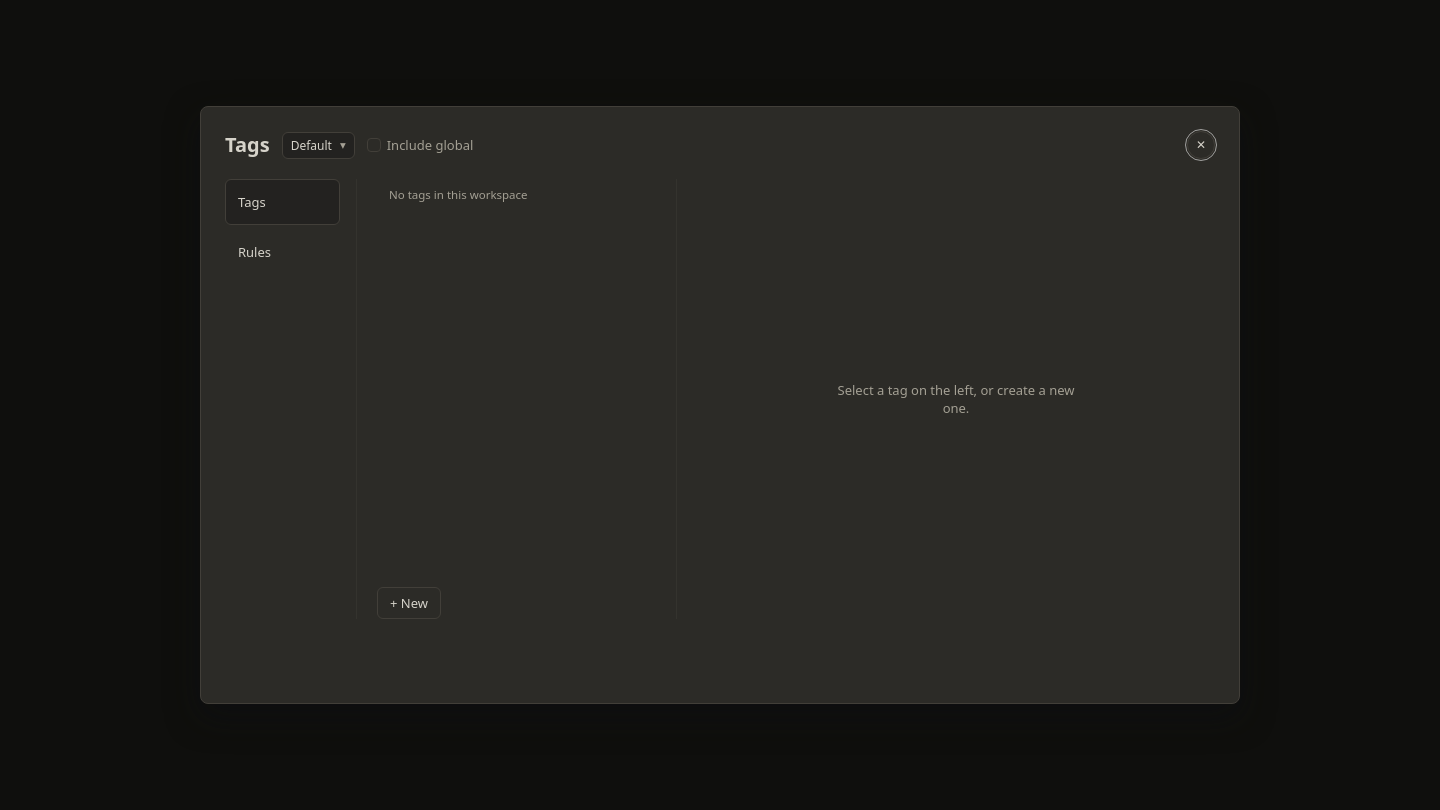
Test case: TagsDialog › a confirmed delete removes the row and returns to the placeholder
Click the button "Default ▾".
click(318, 145)  # box x1=282 y1=132 x2=355 y2=158
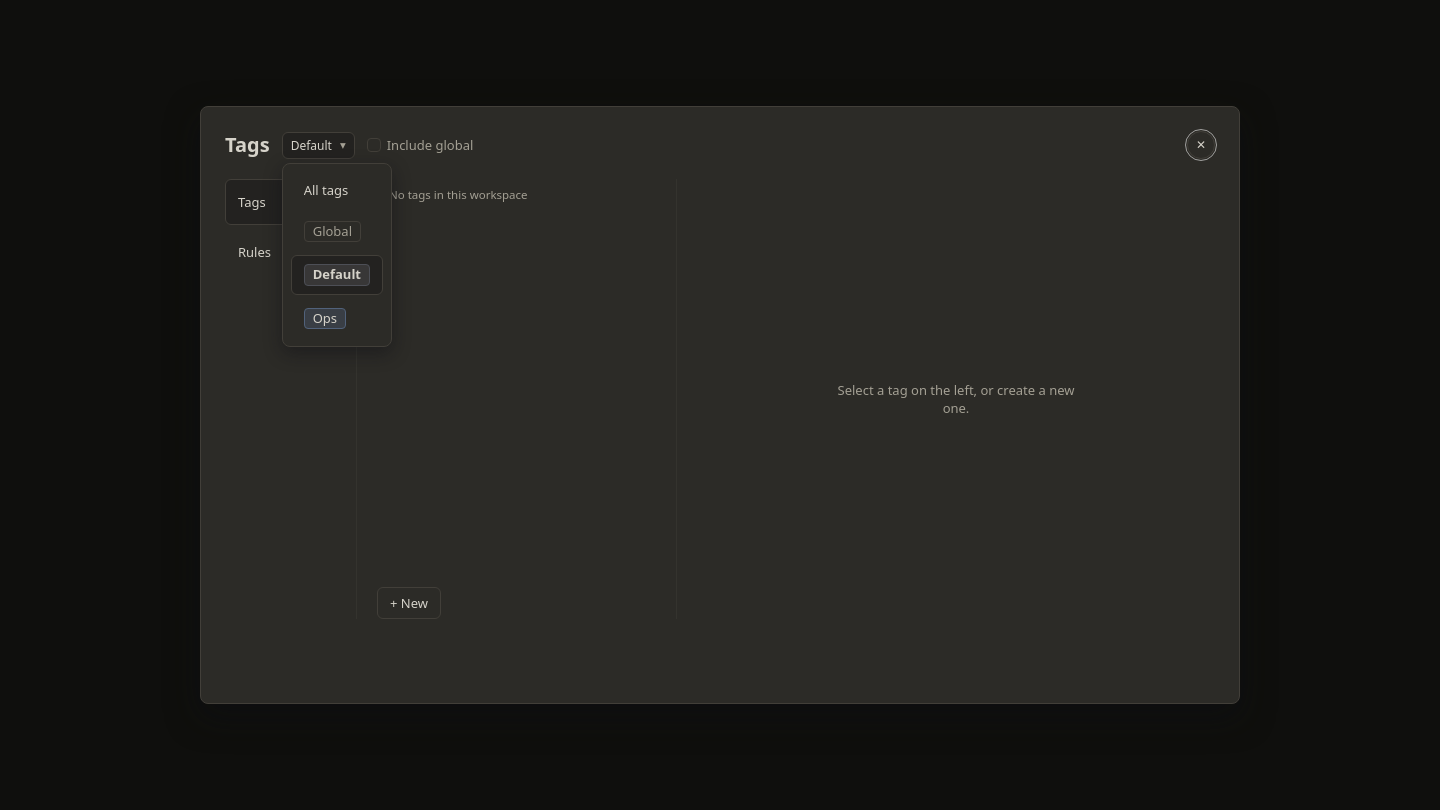
Click the option "All tags".
click(337, 190)  # box x1=291 y1=172 x2=383 y2=208
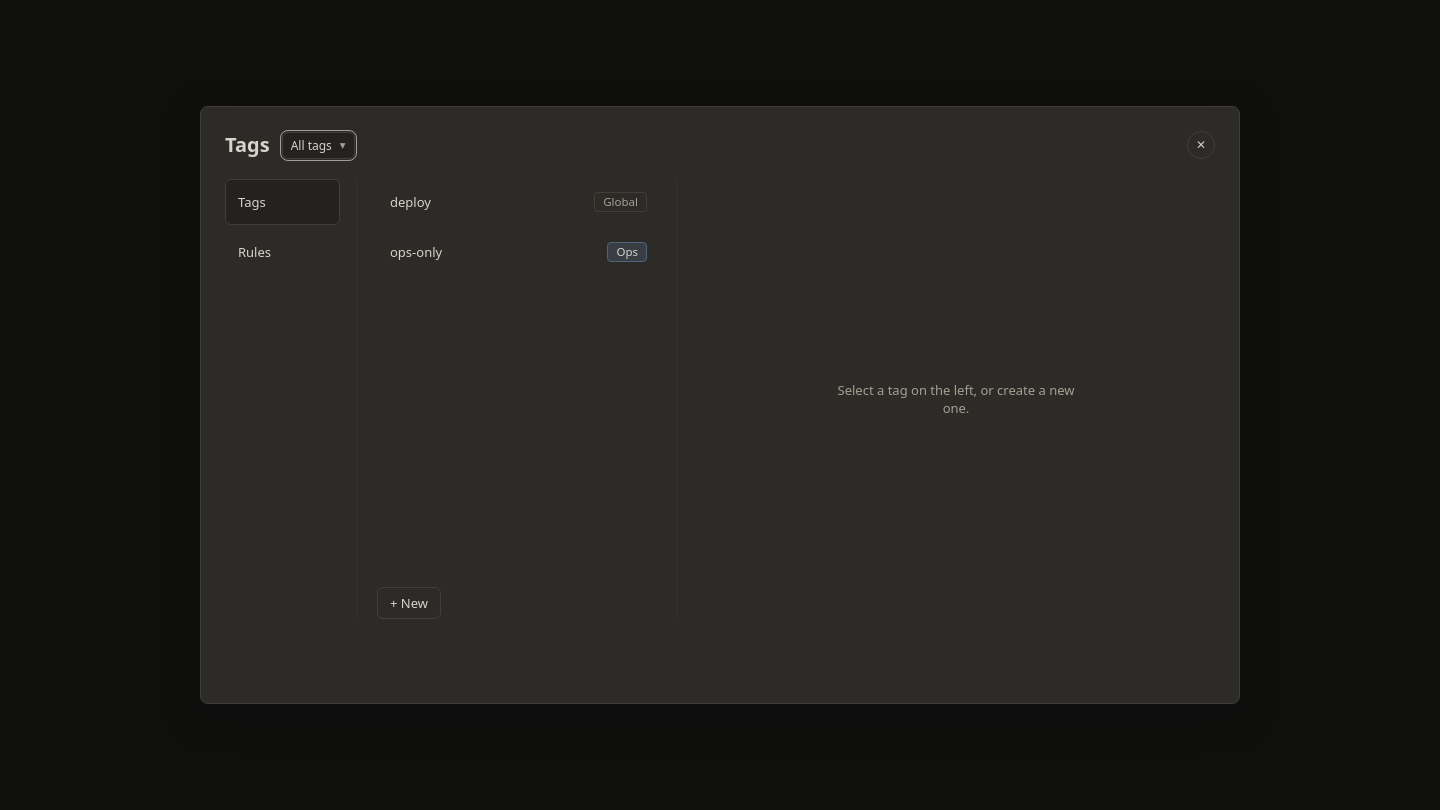
Click the button with test id "tag-select-t-deploy".
click(410, 202)  # box x1=378 y1=180 x2=659 y2=224
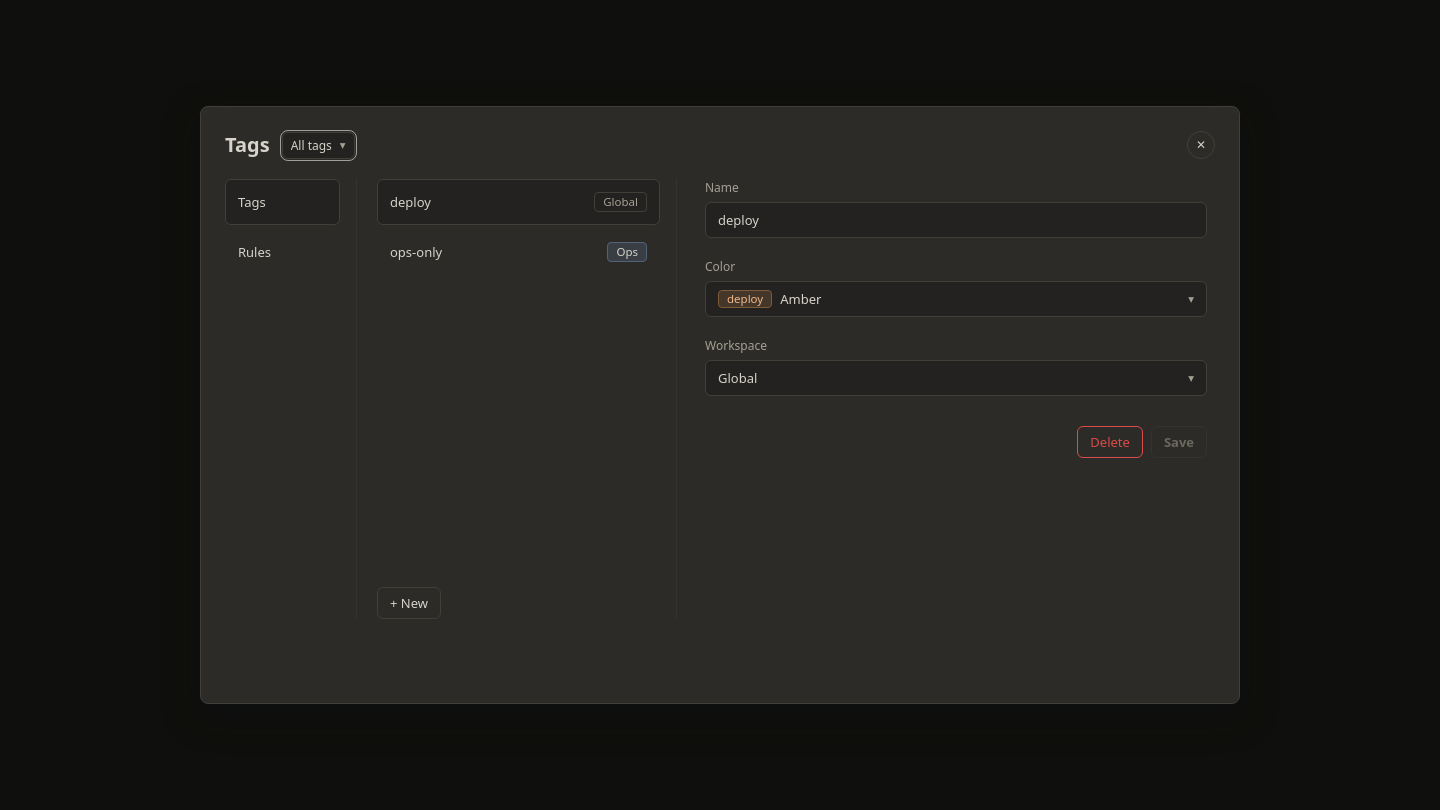
Click the button with test id "tag-delete".
click(1110, 442)  # box x1=1077 y1=426 x2=1143 y2=458
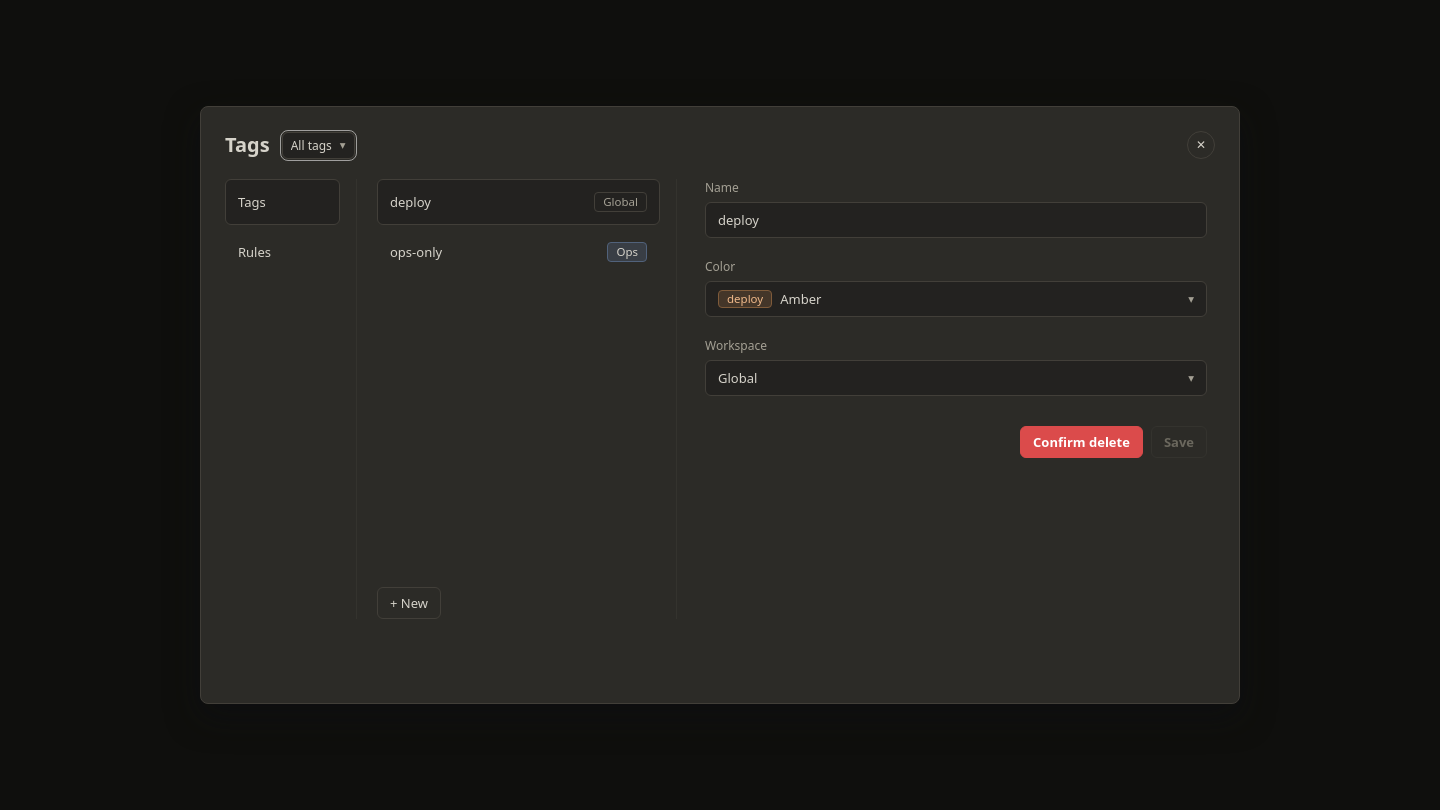
Click the button with test id "tag-delete".
click(1082, 442)  # box x1=1020 y1=426 x2=1143 y2=458
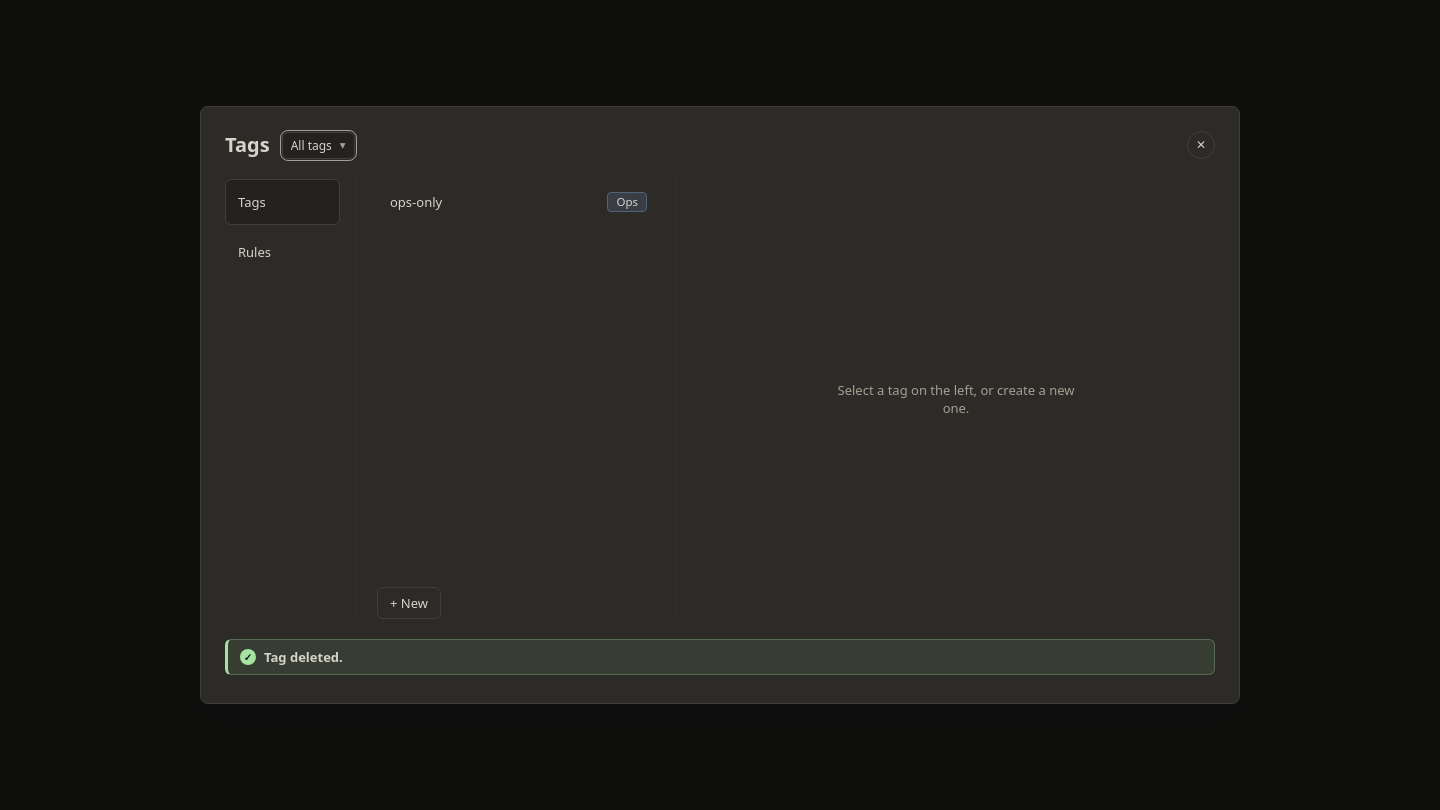
Check: the element with test id "tag-placeholder" is shown, box x1=838 y1=381 x2=1074 y2=417
Check: the label with test id "tag-name" is gone
Check: the element with test id "tags-success" reads "Tag deleted.", box x1=264 y1=648 x2=343 y2=666
